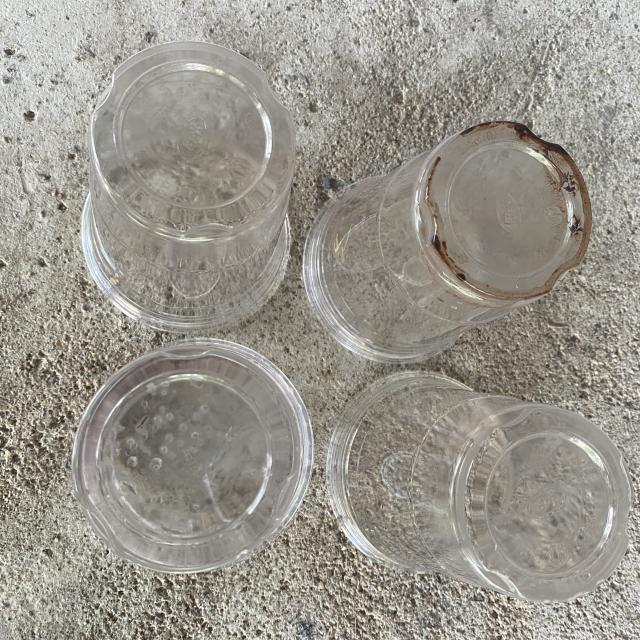plastik: (326, 372, 634, 602), (304, 121, 591, 362), (82, 41, 295, 332), (72, 339, 314, 572)
